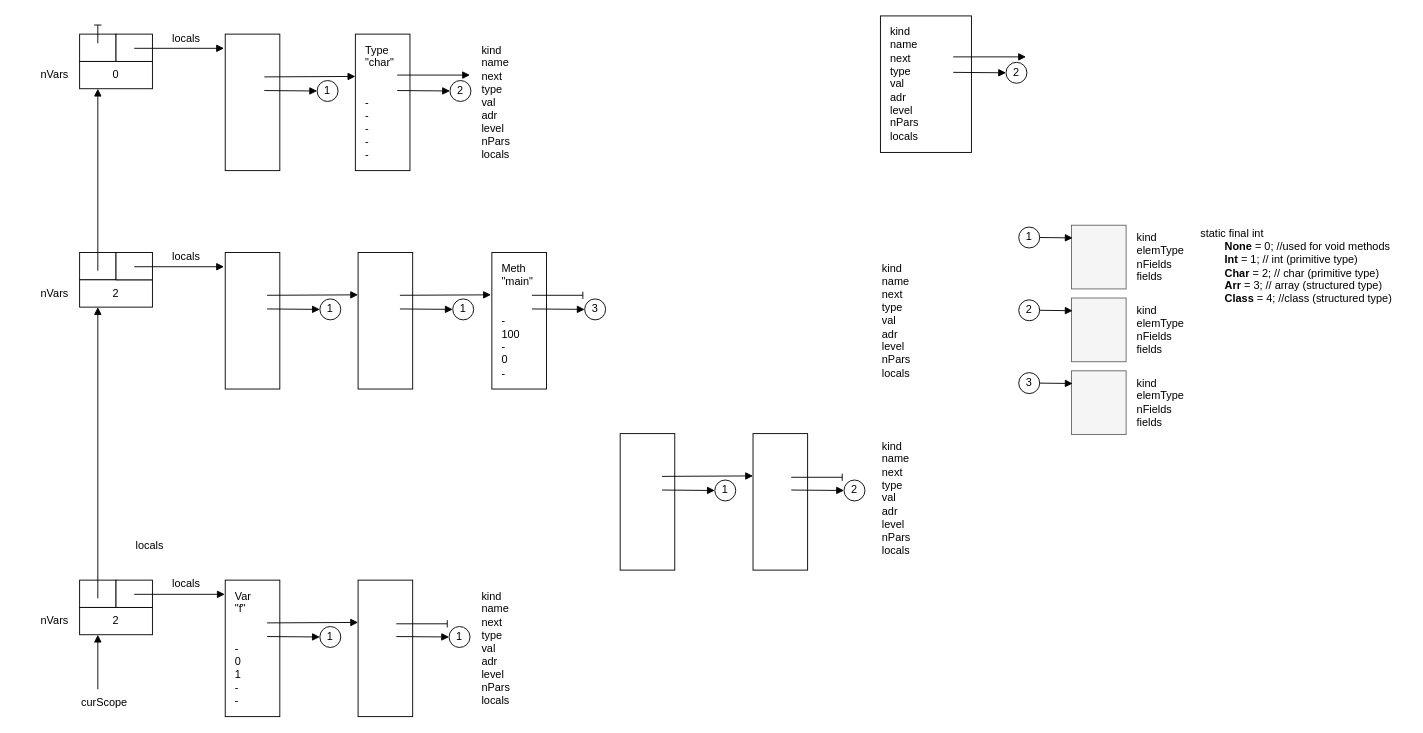
This 1423x733 diagram has some shape labels left out. Here are the shapes that lost their labels. From the top down, the centre of each, then its label:
(252,102): Type "int" - - - - -
(1098,256): Int - - -
(252,320): Var "a" - - - - -
(385,320): Var "b" - - - - -
(1098,329): Char - - -
(1098,402): None - - -
(647,501): Var "c" - 0 1 - -
(780,501): Var "d" - 1 1 - -
(385,648): Var "g" - 1 1 - -
